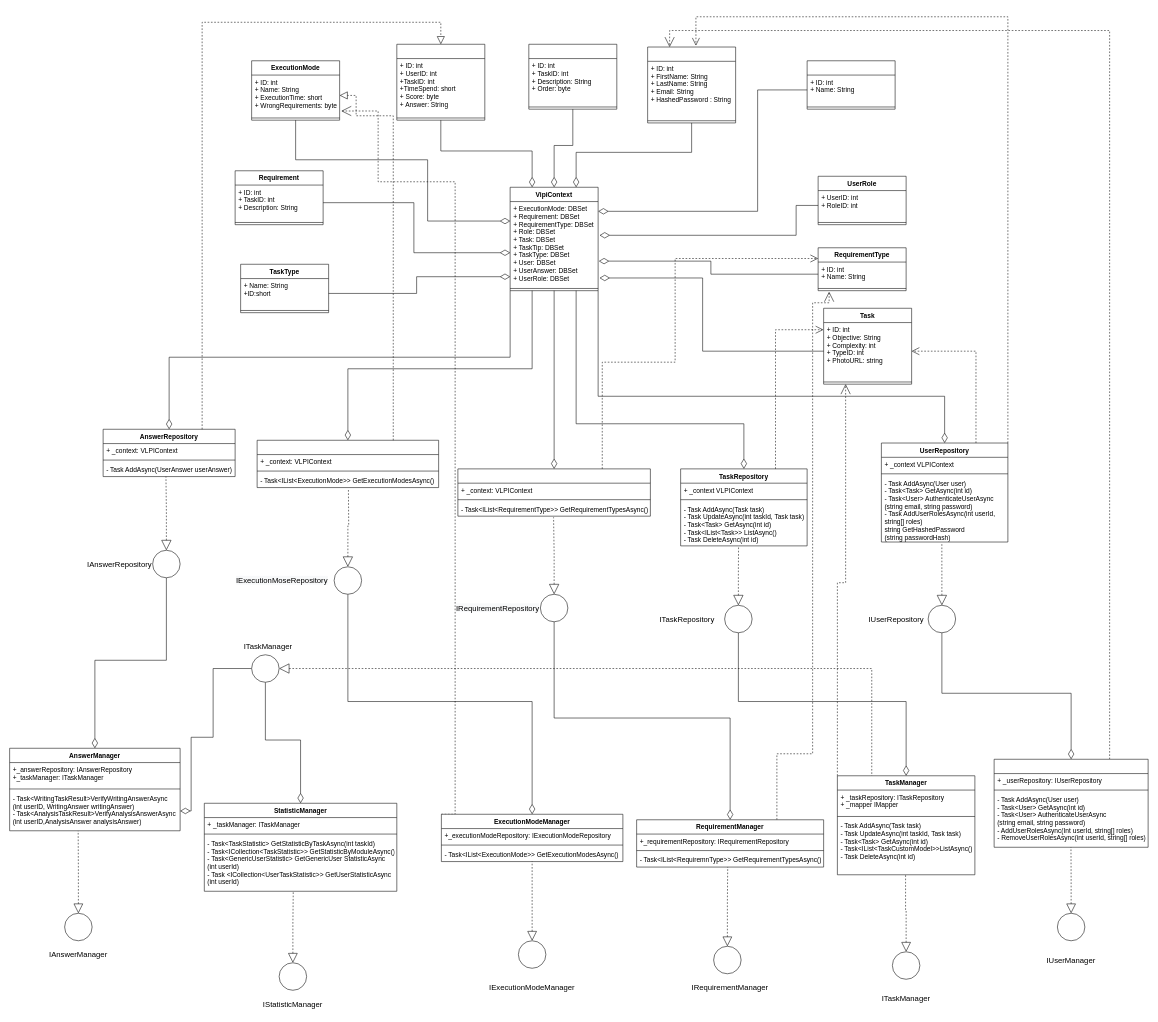
Some shapes in this 1158 by 1022 pixel diagram are drawn without their labels. Here are the shapes that lost their labels. From the top down, the box of each, then its label:
(396, 44, 485, 120): UserAnswer
(528, 44, 617, 109): TaskTip
(647, 46, 736, 123): User
(807, 60, 895, 109): Role
(257, 440, 439, 488): ExecutionModeRepository
(457, 468, 650, 516): RequirementRepository
(994, 759, 1148, 847): UserManager
